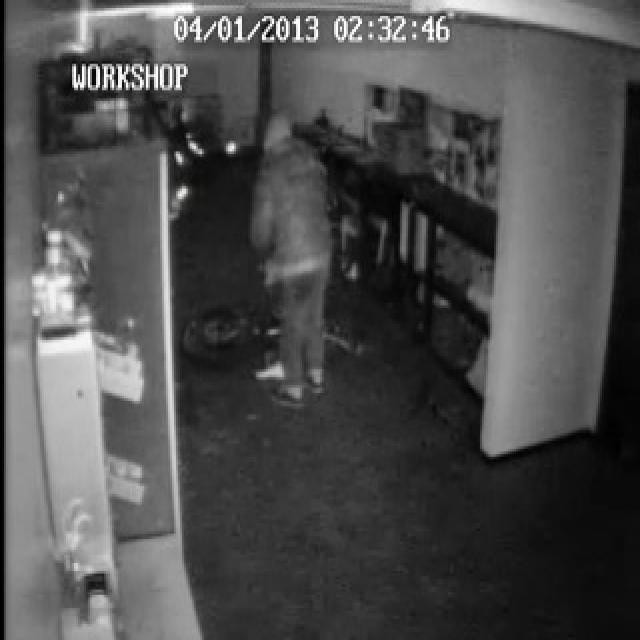thief: (250, 99, 339, 331)
